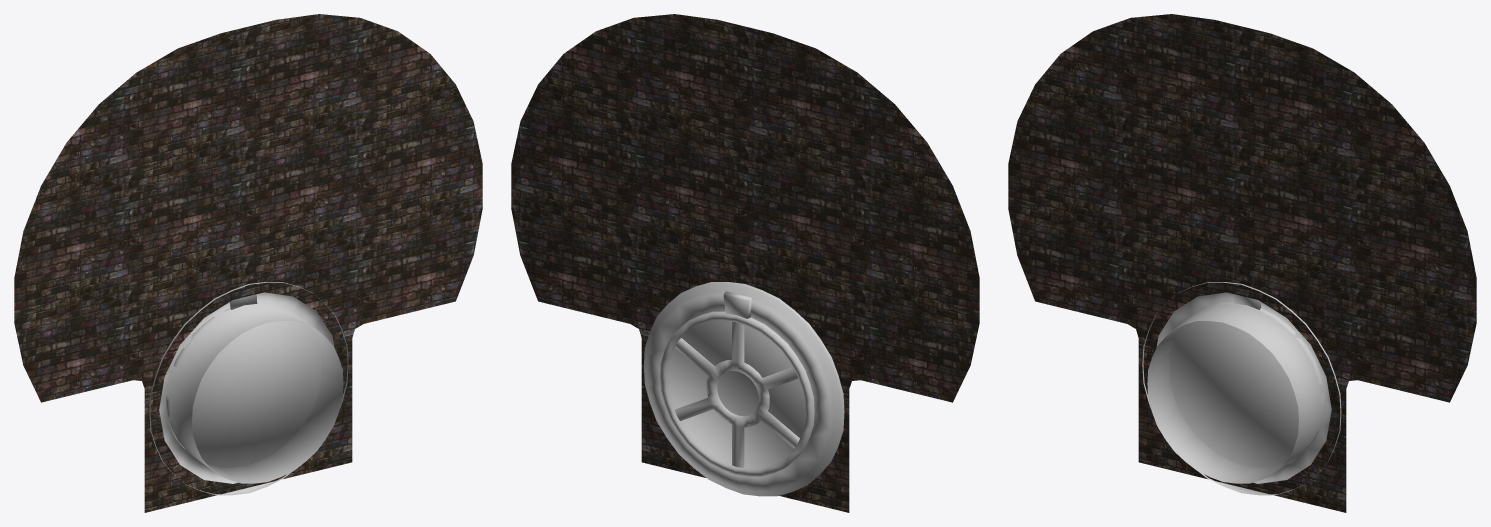
Rendered from wall_end01.DAE.
3 views of the same model, side by side, from view 1: azimuth 30°, elevation 25°; view 2: azimuth 150°, elevation 25°; view 3: azimuth 330°, elevation 25° (orthographic).
Parts seen in each view (by area): view 1: wall_end01, flood_gate; view 2: wall_end01, flood_gate; view 3: wall_end01, flood_gate.
Part boxes in pixels (x1,y1,x2,y2): wall_end01: (14,14,482,512); flood_gate: (149,282,348,495); wall_end01: (511,14,979,512); flood_gate: (644,282,844,496); wall_end01: (1008,14,1476,512); flood_gate: (1142,282,1341,495).
Size of the model in its own units: 9.04 by 0.9669 by 8.59.
